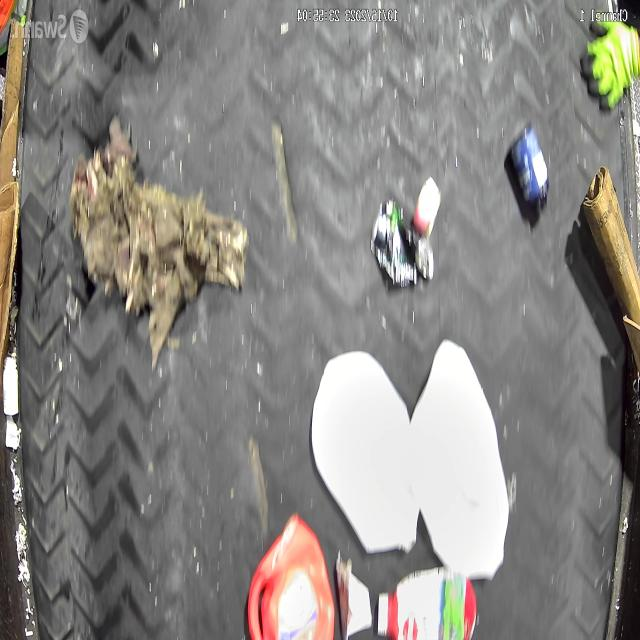can: (371, 195, 434, 289)
milk_jug: (408, 338, 511, 579), (309, 350, 419, 557)
non_white_jug: (242, 509, 339, 640)
